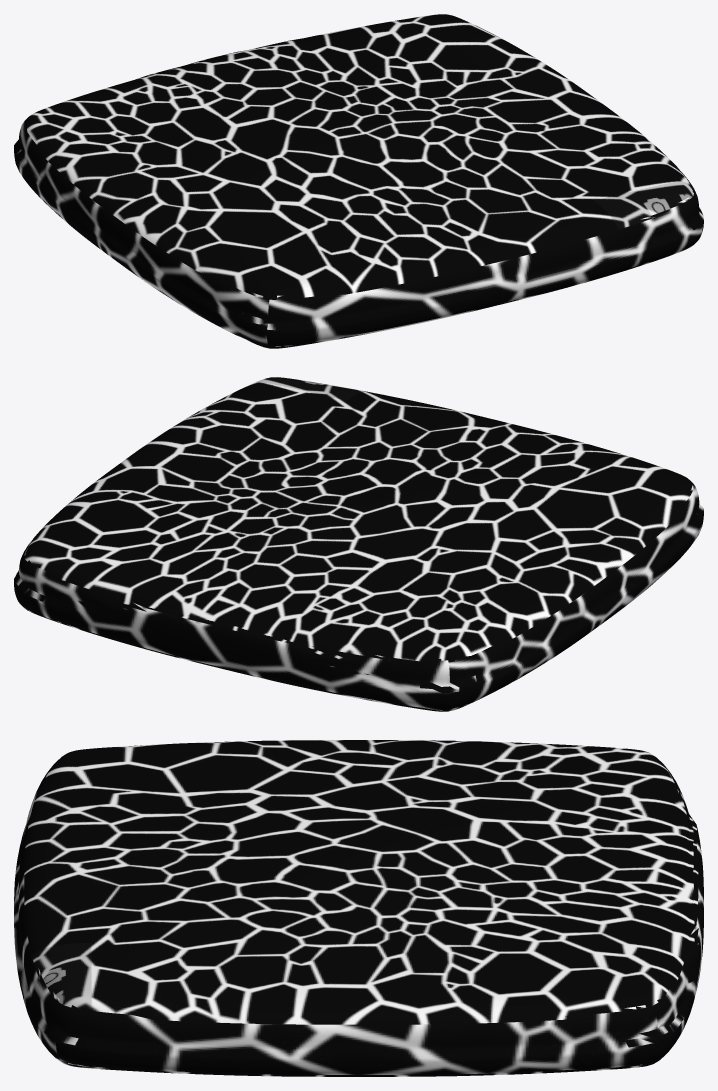
Rendered from box_lid_zebra.obj.
3 views of the same model, one above another, from view 1: azimuth 30°, elevation 25°; view 2: azimuth 150°, elevation 25°; view 3: azimuth 270°, elevation 25° (orthographic). The views are drawn at different scales.
Visible parts, largest first — view 1: 001_Cube.002; view 2: 001_Cube.002; view 3: 001_Cube.002.
Part boxes in pixels (x1,y1,x2,y2): 001_Cube.002: (14, 14, 703, 348); 001_Cube.002: (14, 377, 703, 711); 001_Cube.002: (14, 740, 703, 1076).
Bounding box in the file's own units: 0.4835 × 0.0664 × 0.4835.
